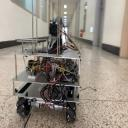cart: (9, 45, 81, 123)
